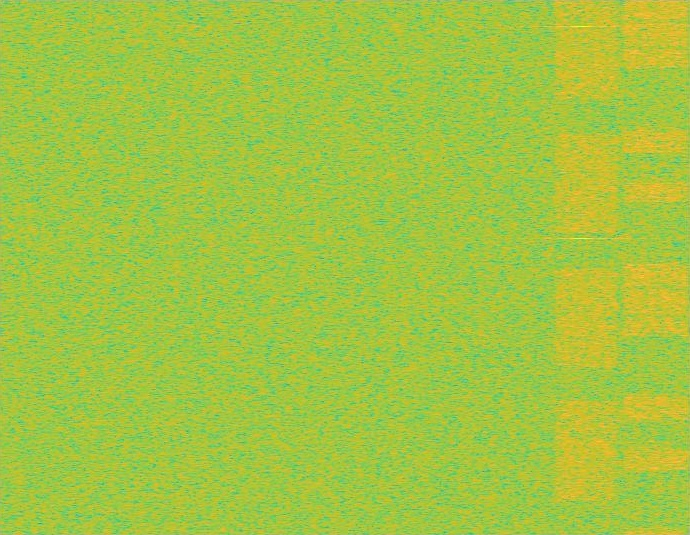5G: (552, 0, 621, 534)
LTE: (621, 0, 689, 534)
Radar: (575, 0, 589, 534)
